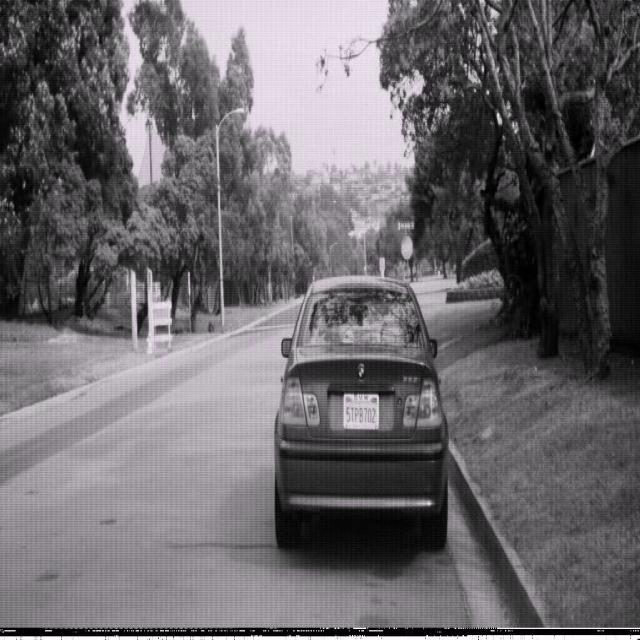stop: (399, 234, 413, 261)
